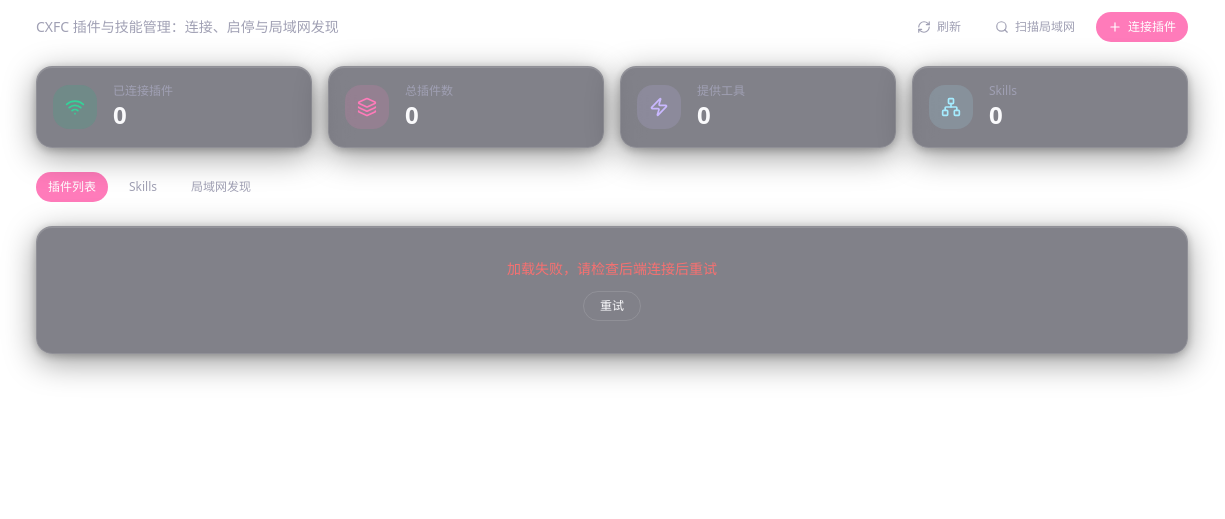
Scenario: PluginsPage 插件页 › 加载失败显示错误态，点击重试重新拉取
Expected: the text "加载失败，请检查后端连接后重试" is shown, [507,259,717,278]
Click the button "重试" at (612, 306), box [583,291,641,321]
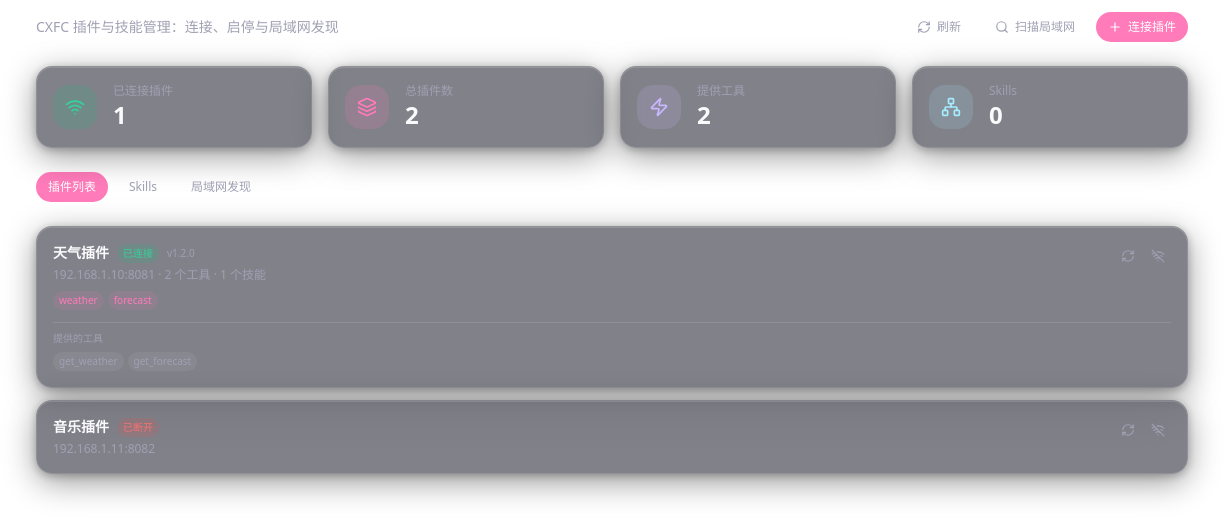
Now the text "天气插件" is shown, box [53,243,109,263]
